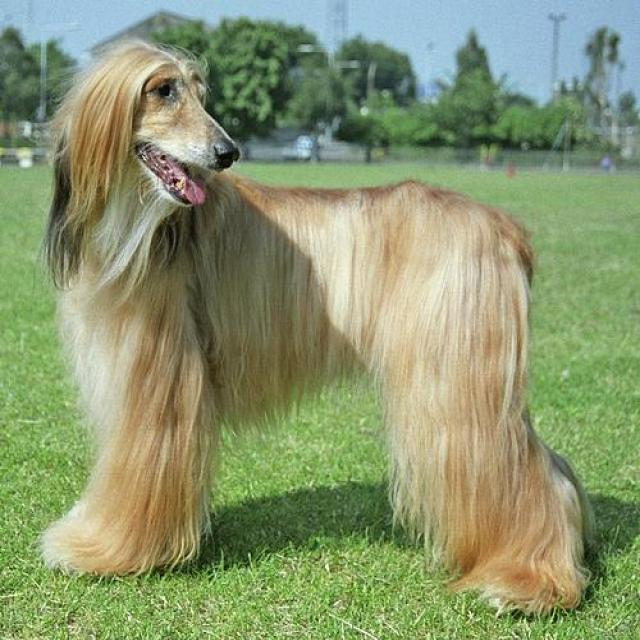afghan_hound: (33, 35, 595, 620)
